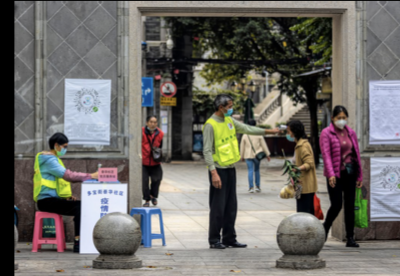mask_weared_incorrect: (148, 118, 157, 128)
with_mask: (334, 113, 347, 127), (224, 101, 234, 116), (285, 127, 295, 140), (58, 143, 67, 156)
